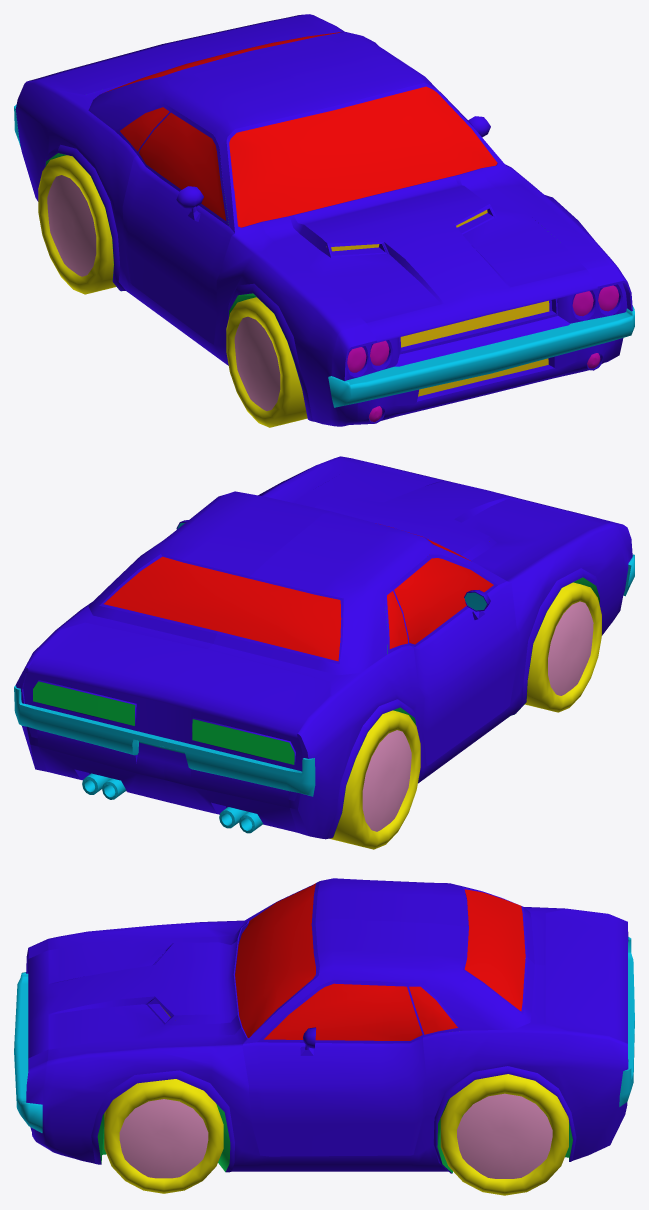
File: Car03_ColorCoded.fbx
3 renders of one model, top to bottom at view 1: azimuth 30°, elevation 25°; view 2: azimuth 150°, elevation 25°; view 3: azimuth 270°, elevation 25°, orthographic. The views are drawn at different scales.
Visible parts, largest first — view 1: carBody, chrome, tireBackR, tireFrontR; view 2: carBody, tireBackR, chrome, tireFrontR; view 3: carBody, tireBackL, tireFrontL, chrome.
Boxes of the visible parts, x1=… form: carBody: x1=15, y1=14, x2=632, y2=426; chrome: x1=14, y1=104, x2=634, y2=407; tireBackR: x1=38, y1=155, x2=116, y2=294; tireFrontR: x1=226, y1=297, x2=307, y2=427; carBody: x1=15, y1=456, x2=632, y2=839; tireBackR: x1=329, y1=710, x2=420, y2=849; chrome: x1=14, y1=554, x2=634, y2=796; tireFrontR: x1=525, y1=582, x2=601, y2=712; carBody: x1=26, y1=878, x2=628, y2=1173; tireBackL: x1=440, y1=1074, x2=568, y2=1195; tireFrontL: x1=104, y1=1079, x2=223, y2=1193; chrome: x1=14, y1=937, x2=634, y2=1132.
Bounding box in the file's own units: 62.69 × 114 × 41.8.
